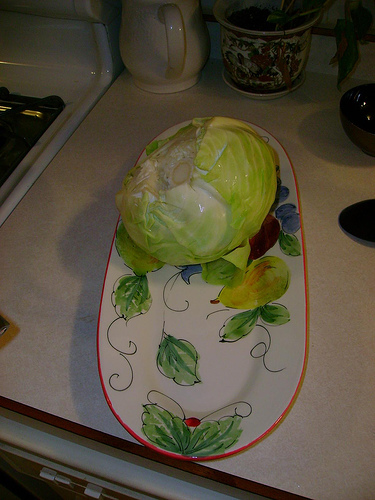cabbage: (111, 112, 277, 286)
